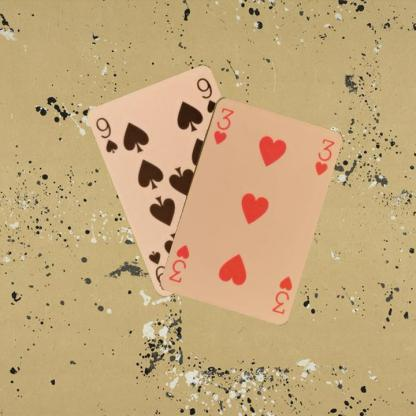3h: (269, 272, 294, 316), (210, 104, 235, 146)
9s: (93, 114, 120, 155)
